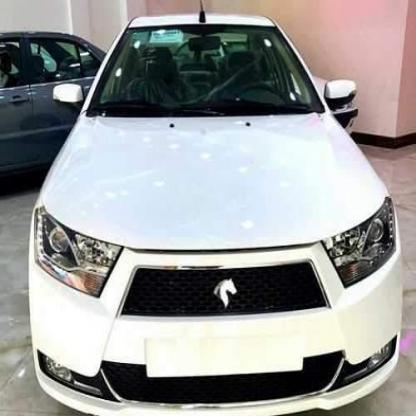Car: (23, 0, 410, 413), (0, 29, 130, 217)
